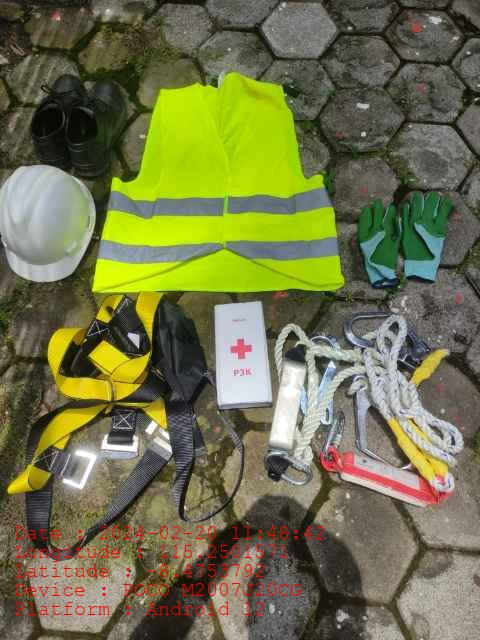HELM: (1, 165, 95, 283)
ROMPI: (129, 75, 312, 292)
SEPATU: (27, 73, 127, 179)
TAMBANG_SLING: (269, 310, 460, 506)
